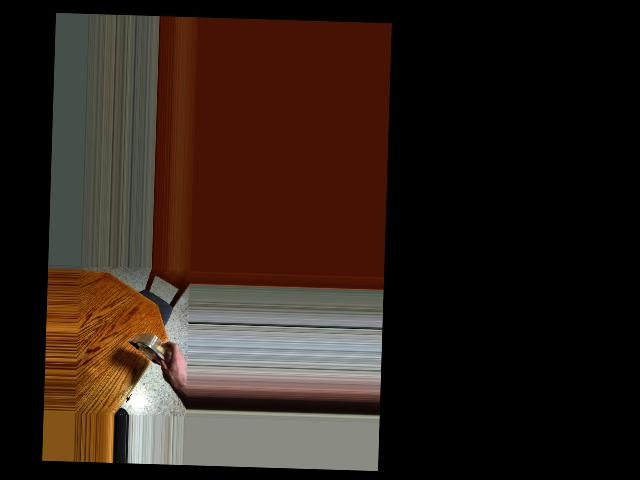cheese: (132, 327, 177, 380)
